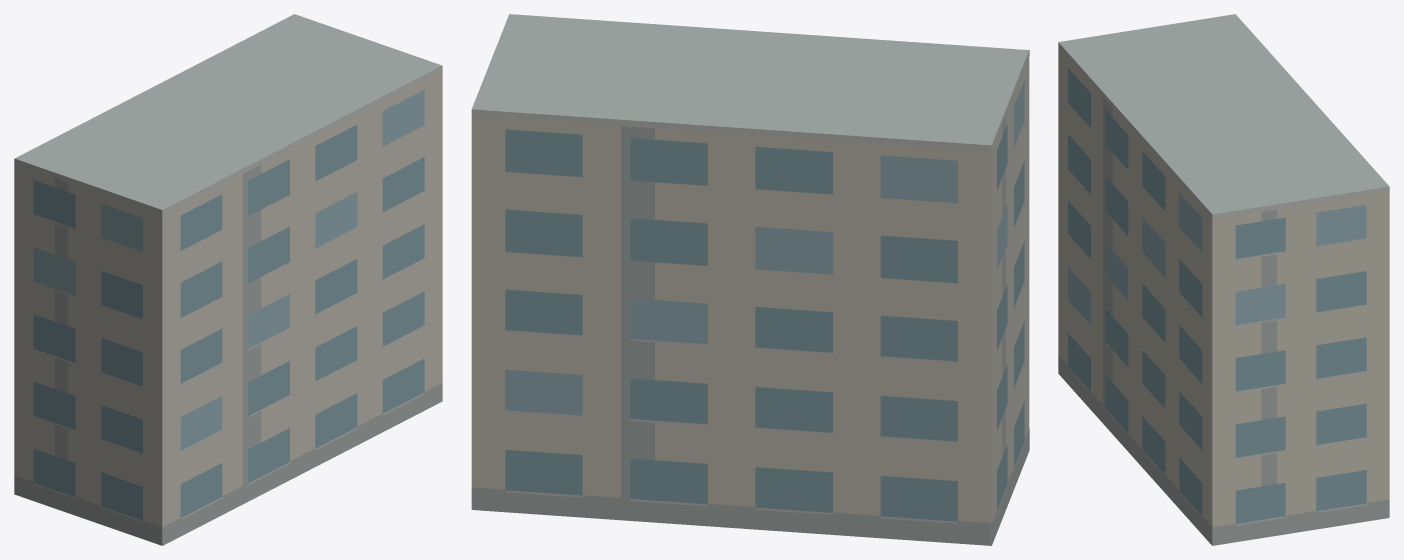
Rendered from survey-upis-32773940.glb.
The picture shows the model from 3 angles, left to right: view 1: azimuth 30°, elevation 25°; view 2: azimuth 150°, elevation 25°; view 3: azimuth 270°, elevation 25°; orthographic projection. The views are drawn at different scales.
Visible parts, largest first — view 1: survey-upis-32773940.tmp; view 2: survey-upis-32773940.tmp; view 3: survey-upis-32773940.tmp.
Part boxes in pixels (x1,y1,x2,y2): survey-upis-32773940.tmp: (14,14,442,545); survey-upis-32773940.tmp: (471,14,1029,545); survey-upis-32773940.tmp: (1058,14,1389,545).
Size of the model in its own units: 20.12 by 15.5 by 14.05.
